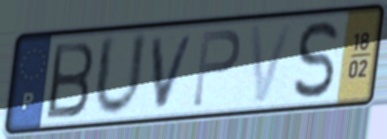B: (44, 38, 97, 122)
P: (190, 27, 243, 110)
S: (290, 18, 341, 102)
U: (91, 29, 150, 121)
V: (247, 19, 297, 106), (150, 31, 199, 112)
